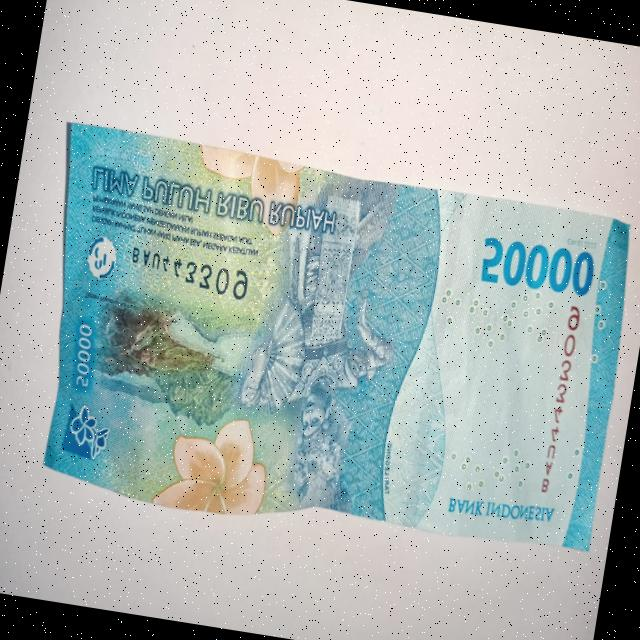50K: (8, 122, 640, 568)
